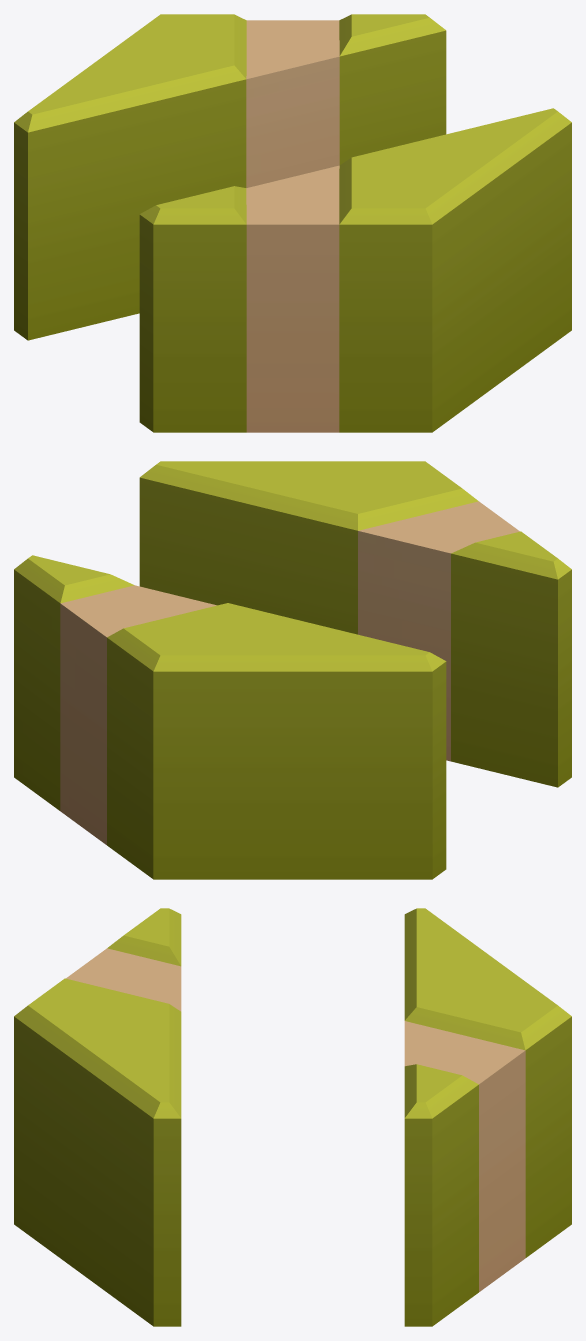
Rendered from kaykit-medieval-hexagon-pack-hex-river-crossing-b-waterless.glb.
3 views of the same model, one above another, from view 1: azimuth 30°, elevation 25°; view 2: azimuth 150°, elevation 25°; view 3: azimuth 270°, elevation 25° (orthographic).
Visible parts, largest first — view 1: hex_river_crossing_B_waterless; view 2: hex_river_crossing_B_waterless; view 3: hex_river_crossing_B_waterless.
Part boxes in pixels (bbox=[...]): hex_river_crossing_B_waterless: bbox=[14, 14, 571, 432]; hex_river_crossing_B_waterless: bbox=[14, 461, 571, 879]; hex_river_crossing_B_waterless: bbox=[14, 908, 571, 1326].
Bounding box in the file's own units: 2 × 1 × 2.31.
Materials: 1 (1 with a texture image).
